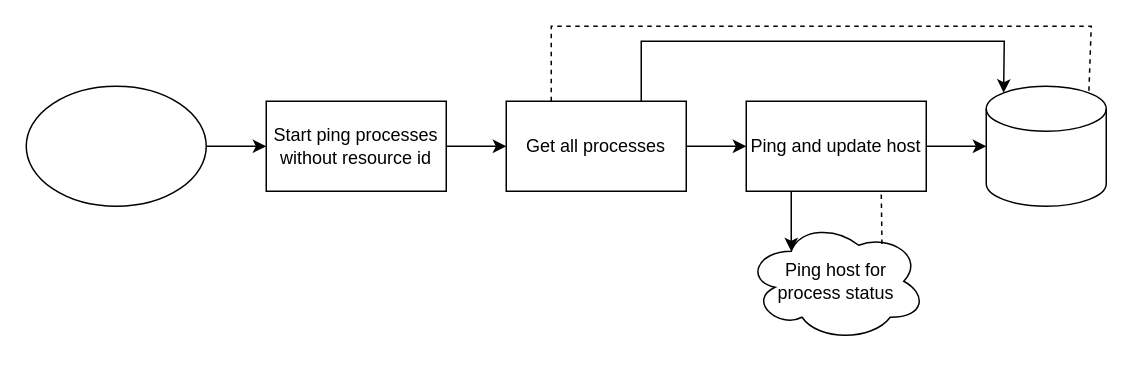
The diagram is 1133 pixels wide and 368 high, and some of its shapes have lost their labels. Here are the shapes that lost their labels. From the top down, the centre of each, then its label:
(115,145): App.jsx: mounted
(1045,145): Localstorage
